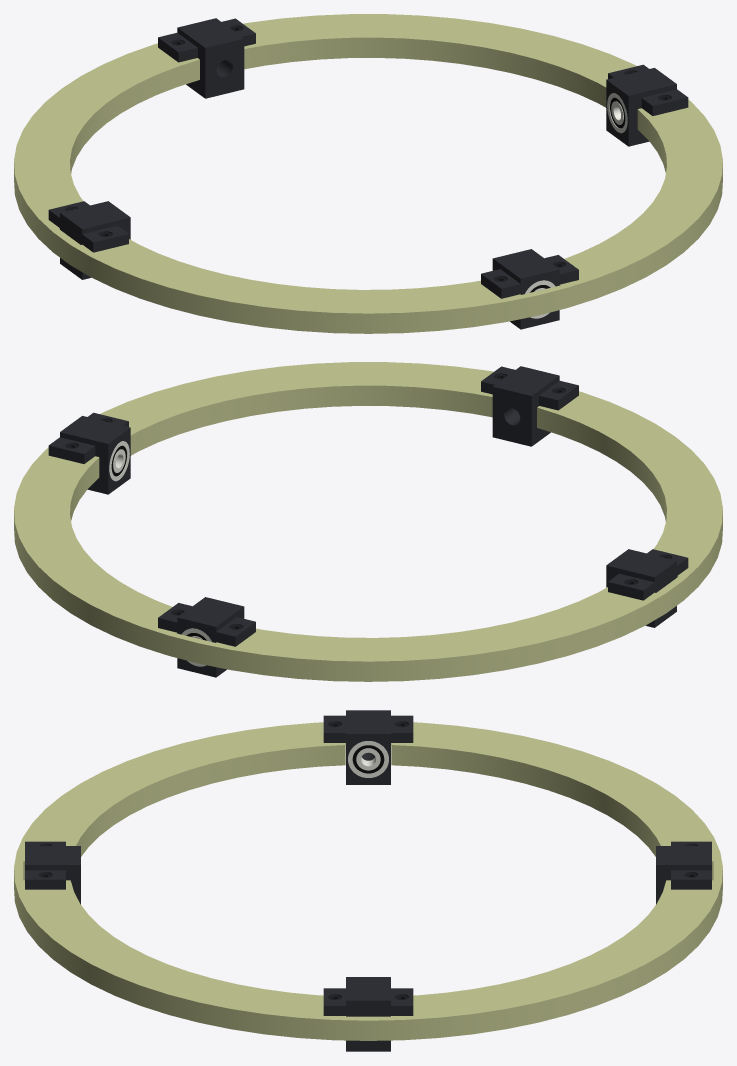
The model's file is TARGET_RING.glb.
3 renders of one model, top to bottom at view 1: azimuth 30°, elevation 25°; view 2: azimuth 150°, elevation 25°; view 3: azimuth 270°, elevation 25°, orthographic.
Parts seen in each view (by area): view 1: pitch_ring_G10, bearing_block_yp_printed, bearing_block_xp_printed, bearing_block_yn_printed, bearing_block_xn_printed; view 2: pitch_ring_G10, bearing_block_yn_printed, bearing_block_xp_printed, bearing_block_yp_printed, bearing_block_xn_printed; view 3: pitch_ring_G10, bearing_block_xp_printed, bearing_block_xn_printed, bearing_block_yn_printed, bearing_block_yp_printed, gimbal_bearing_xn_608_outer.
Boxes of the visible parts, left/top/right/bottom form: pitch_ring_G10: left=14, top=14, right=722, bottom=333; bearing_block_yp_printed: left=158, top=18, right=255, bottom=98; bearing_block_xp_printed: left=606, top=64, right=688, bottom=146; bearing_block_yn_printed: left=481, top=249, right=578, bottom=329; bearing_block_xn_printed: left=48, top=201, right=130, bottom=279; pitch_ring_G10: left=14, top=362, right=722, bottom=681; bearing_block_yn_printed: left=481, top=366, right=578, bottom=446; bearing_block_xp_printed: left=48, top=412, right=130, bottom=494; bearing_block_yp_printed: left=158, top=597, right=255, bottom=677; bearing_block_xn_printed: left=606, top=549, right=688, bottom=627; pitch_ring_G10: left=14, top=722, right=722, bottom=1040; bearing_block_xp_printed: left=323, top=977, right=413, bottom=1051; bearing_block_xn_printed: left=323, top=710, right=413, bottom=784; bearing_block_yn_printed: left=25, top=841, right=80, bottom=904; bearing_block_yp_printed: left=656, top=841, right=711, bottom=904; gimbal_bearing_xn_608_outer: left=348, top=741, right=388, bottom=777.
Size of the model in its own units: 380 by 30 by 380.
